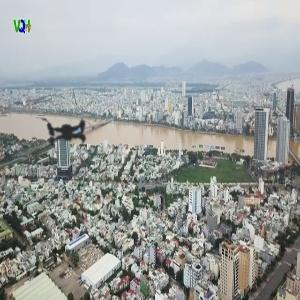drone: (20, 84, 121, 185)
